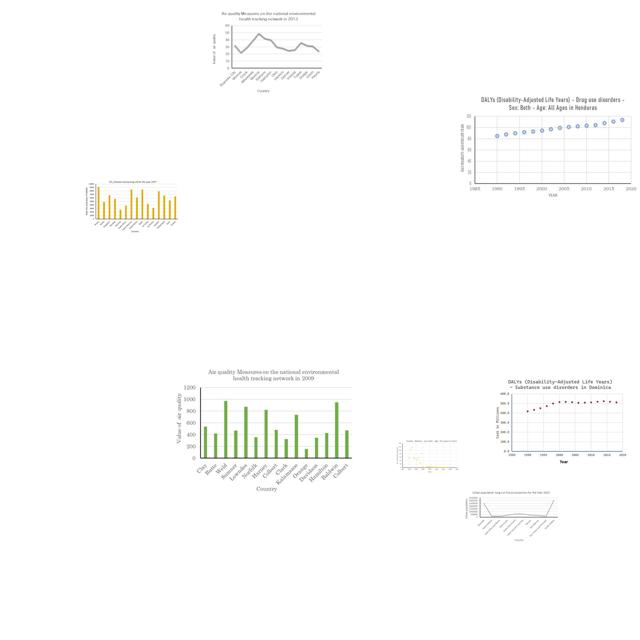Graph: (172, 366, 356, 495), (458, 94, 639, 201), (493, 377, 628, 465), (210, 10, 327, 94), (462, 489, 559, 543), (85, 180, 179, 233), (396, 438, 459, 474)
